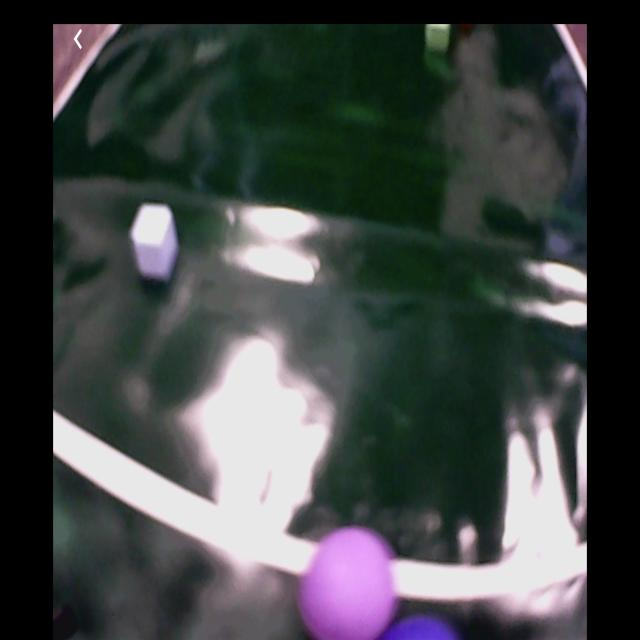ball: (304, 528, 394, 640), (385, 617, 464, 640)
